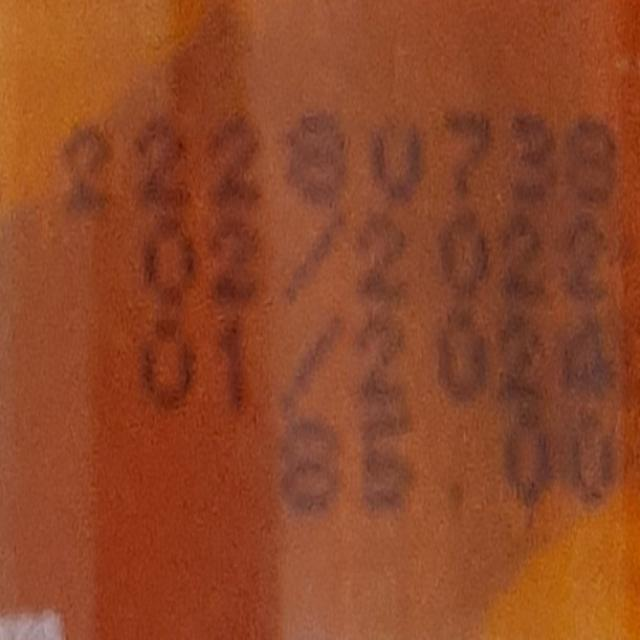sentence: (140, 291, 621, 425), (144, 194, 619, 323), (61, 111, 616, 212), (281, 408, 618, 515)
